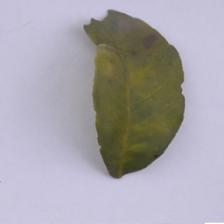greening: (84, 52, 184, 156)
